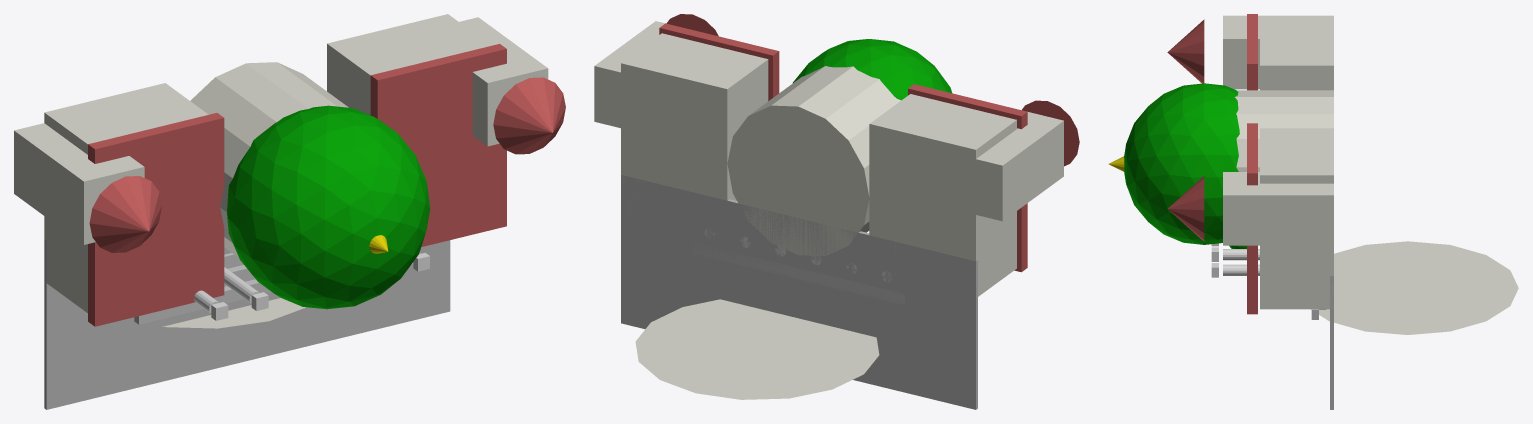
The model's file is government_buildings.glb.
3 renders of one model, left to right at view 1: azimuth 30°, elevation 25°; view 2: azimuth 150°, elevation 25°; view 3: azimuth 270°, elevation 25°, orthographic. The views are drawn at different scales.
Visible parts, largest first — view 1: world; view 2: world; view 3: world.
Part boxes in pixels (left/top/right/bottom): world: left=14, top=14, right=565, bottom=409; world: left=594, top=14, right=1079, bottom=409; world: left=1108, top=14, right=1518, bottom=409.
Size of the model in its own units: 11.8 by 7.2 by 11.1.
